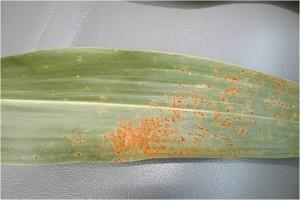Corn rust leaf: (1, 37, 300, 174)
